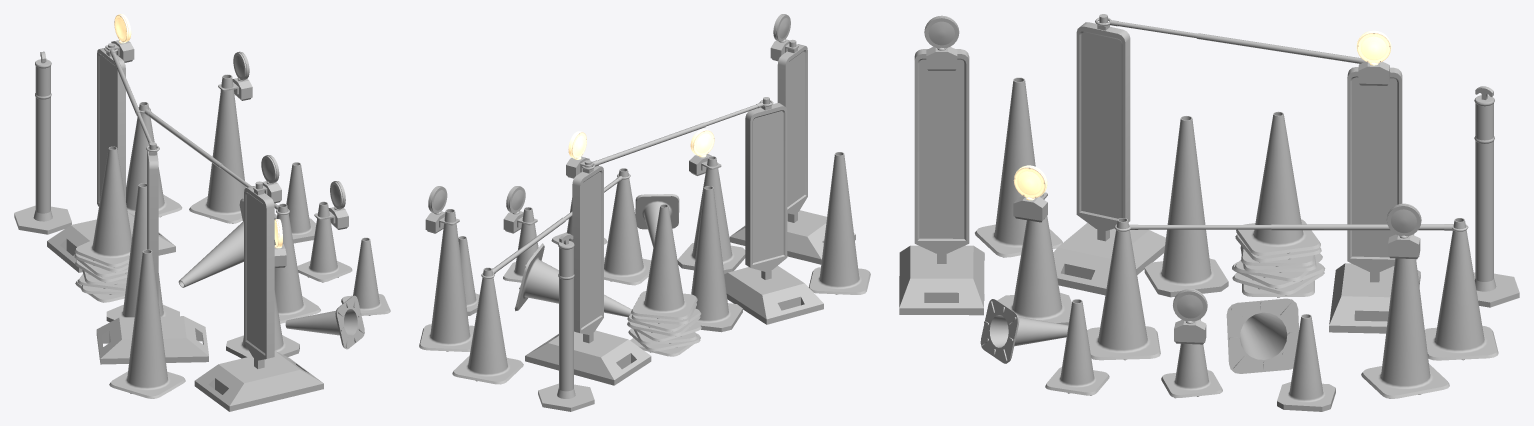
The picture shows the model from 3 angles, left to right: view 1: azimuth 30°, elevation 25°; view 2: azimuth 150°, elevation 25°; view 3: azimuth 270°, elevation 25°; orthographic projection. The views are drawn at different scales.
Visible parts, largest first — view 1: Vertical_Panel_1.002, Vertical_Panel_1.001, Vertical_Panel_1.003, Traffic_Cone_3_2.003, Traffic_Cone_3_2.001, Bollard_1.001, Traffic_Cone_2_2.011, Traffic_Cone_2_2.002, Traffic_Cone_3_1.001, Traffic_Cone_2_2.003, Traffic_Cone_1_2.002, Traffic_Cone_1_2.004 (+11 smaller); view 2: Vertical_Panel_1.003, Vertical_Panel_1.001, Vertical_Panel_1.002, Traffic_Cone_3_2.003, Traffic_Cone_3_2.001, Traffic_Cone_3_1.001, Traffic_Cone_2_2.011, Traffic_Cone_2_2.003, Bollard_1.001, Traffic_Cone_2_2.002, Traffic_Cone_2_2.012, Traffic_Cone_2_1.001 (+12 smaller); view 3: Vertical_Panel_1.002, Vertical_Panel_1.003, Vertical_Panel_1.001, Traffic_Cone_3_1.001, Traffic_Cone_3_2.001, Traffic_Cone_2_2.002, Traffic_Cone_2_2.003, Traffic_Cone_2_2.011, Traffic_Cone_2_2.012, Bollard_1.001, Traffic_Cone_3_2.003, Traffic_Cone_2_1.001 (+17 smaller).
Part boxes in pixels (x1,y1,x2,y2): Vertical_Panel_1.002: [194, 181, 323, 411]; Vertical_Panel_1.001: [47, 43, 175, 272]; Vertical_Panel_1.003: [96, 142, 208, 364]; Traffic_Cone_3_2.003: [109, 249, 185, 398]; Traffic_Cone_3_2.001: [189, 74, 245, 223]; Bollard_1.001: [14, 51, 71, 234]; Traffic_Cone_2_2.011: [74, 146, 131, 267]; Traffic_Cone_2_2.002: [274, 203, 320, 323]; Traffic_Cone_3_1.001: [106, 183, 179, 321]; Traffic_Cone_2_2.003: [126, 102, 182, 217]; Traffic_Cone_1_2.002: [285, 295, 364, 349]; Traffic_Cone_1_2.004: [297, 201, 352, 282]; Vertical_Panel_1.003: [724, 97, 823, 324]; Vertical_Panel_1.001: [525, 160, 651, 385]; Vertical_Panel_1.002: [729, 39, 855, 264]; Traffic_Cone_3_2.003: [809, 152, 870, 294]; Traffic_Cone_3_2.001: [419, 209, 474, 351]; Traffic_Cone_3_1.001: [691, 186, 742, 332]; Traffic_Cone_2_2.011: [631, 204, 697, 319]; Traffic_Cone_2_2.003: [452, 267, 523, 384]; Bollard_1.001: [538, 233, 594, 411]; Traffic_Cone_2_2.002: [604, 168, 651, 285]; Traffic_Cone_2_2.012: [514, 243, 631, 317]; Traffic_Cone_2_1.001: [677, 156, 745, 273]; Vertical_Panel_1.002: [899, 49, 984, 315]; Vertical_Panel_1.003: [1053, 14, 1165, 295]; Vertical_Panel_1.001: [1329, 67, 1420, 333]; Traffic_Cone_3_1.001: [1144, 116, 1228, 297]; Traffic_Cone_3_2.001: [1361, 258, 1449, 398]; Traffic_Cone_2_2.002: [1087, 218, 1160, 360]; Traffic_Cone_2_2.003: [1425, 218, 1498, 360]; Traffic_Cone_2_2.011: [1236, 111, 1320, 255]; Traffic_Cone_2_2.012: [1226, 298, 1298, 373]; Bollard_1.001: [1473, 86, 1519, 307]; Traffic_Cone_3_2.003: [975, 77, 1062, 257]; Traffic_Cone_2_1.001: [997, 194, 1071, 325].
Size of the model in its own units: 2.38 by 1.65 by 3.29.
